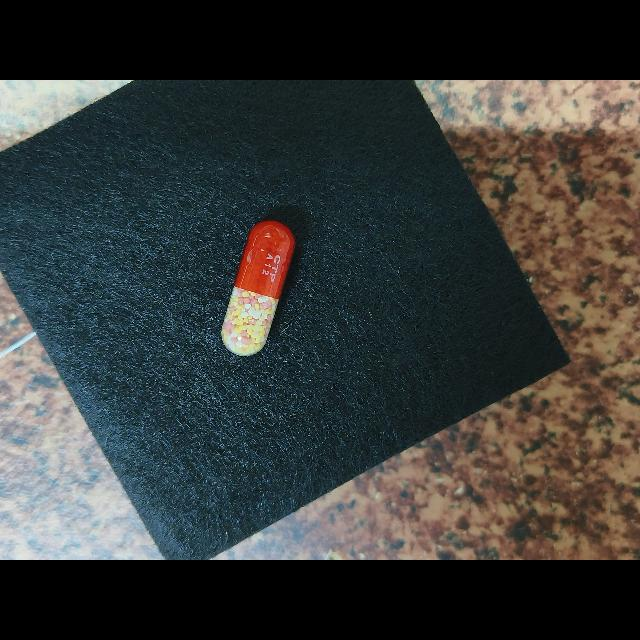Intact Capsule: (221, 220, 295, 356)
